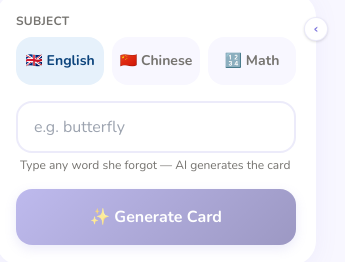
it: InputPanel › clicking Chinese tab switches subject placeholder
The width and height of the screenshot is (345, 262).
Click the button labelled "🇨🇳 Chinese" at (156, 61), box 112,37 -> 200,85
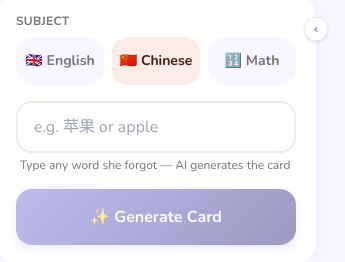
Expected: the field labelled "e.g. 苹果 or apple" is shown, 16,101 -> 296,153
